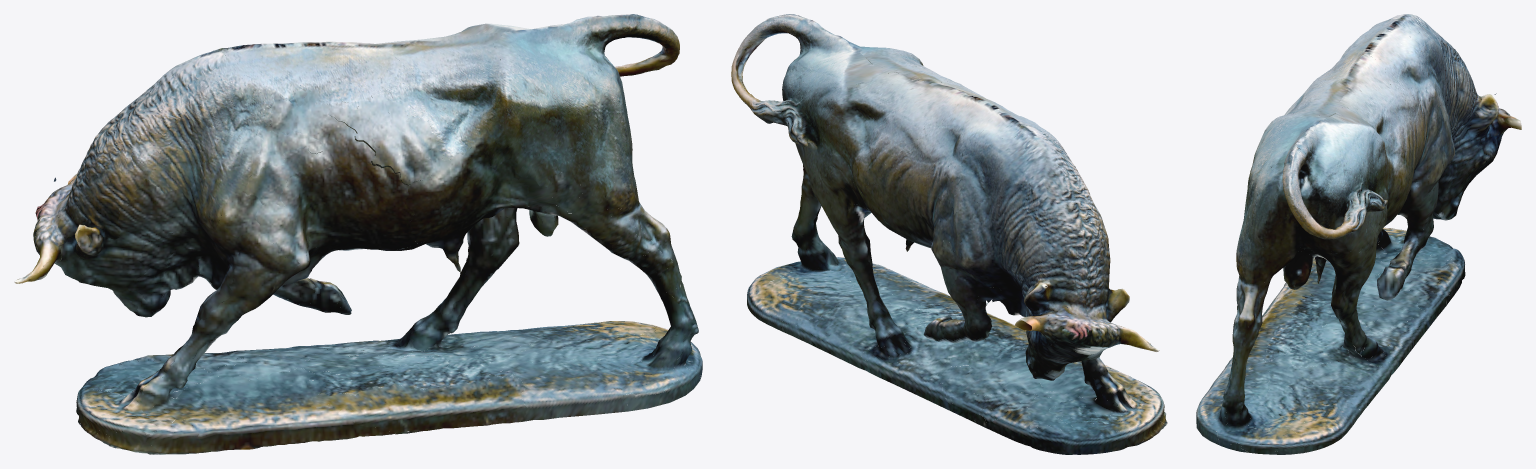
File: statue.glb
3 views of the same model, side by side, from view 1: azimuth 30°, elevation 25°; view 2: azimuth 150°, elevation 25°; view 3: azimuth 270°, elevation 25° (orthographic). The views are drawn at different scales.
Parts seen in each view (by area): view 1: Object_2, Object_3; view 2: Object_2, Object_3; view 3: Object_2, Object_3.
Part boxes in pixels (x1,y1,x2,y2): Object_2: (14, 14, 702, 454); Object_3: (15, 14, 702, 434); Object_2: (734, 14, 1167, 443); Object_3: (731, 14, 1164, 454); Object_2: (1196, 14, 1521, 454); Object_3: (1217, 18, 1520, 454).
Size of the model in its own units: 2.78 by 1.57 by 1.64.
1 material, 1 textured.
